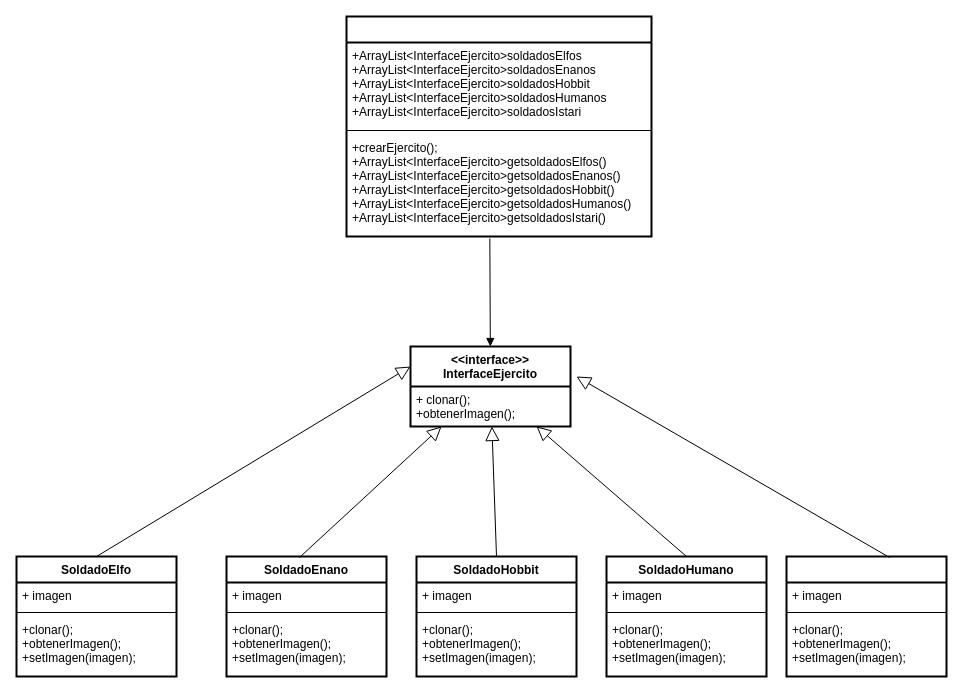
The diagram is 963 pixels wide and 693 high, and some of its shapes have lost their labels. The shapes that lost their labels are listed below. From the top down, each one's box as (x1, y1, x2, y2) in pixels, then its label:
(345, 15, 652, 237): AdministradorDePrototipos
(785, 555, 947, 677): SoldadoIstari
